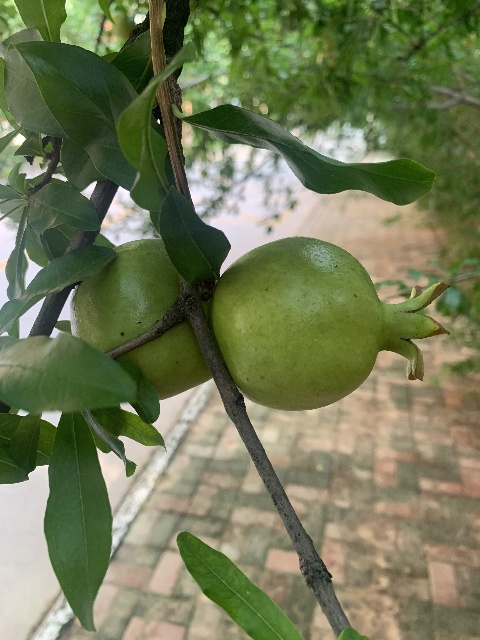mid-growth: (210, 236, 454, 411), (54, 238, 213, 400), (102, 14, 136, 40)
